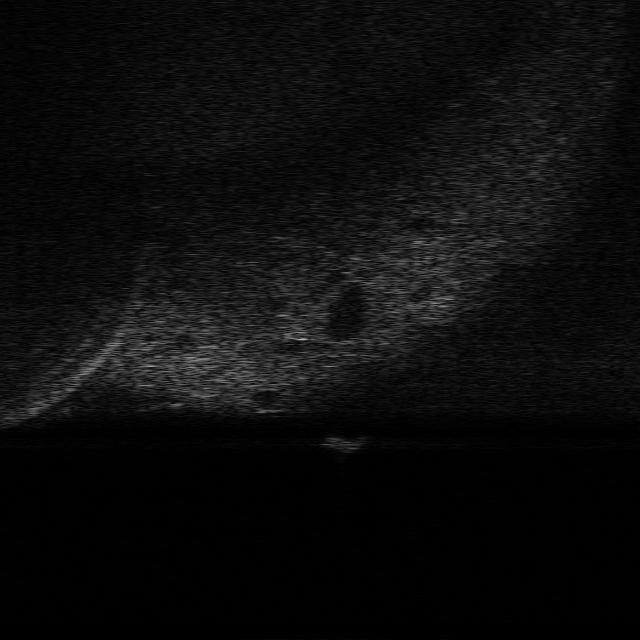cube: (318, 430, 372, 452)
